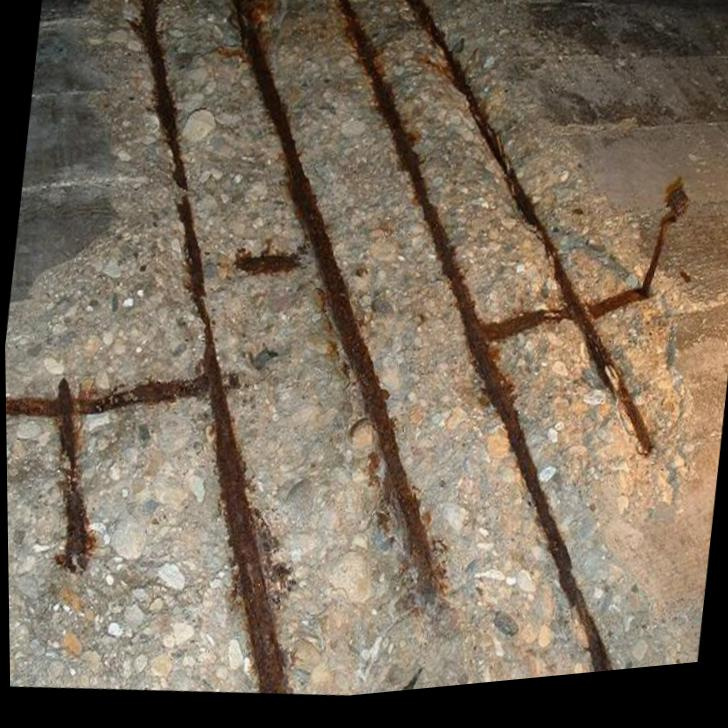damage: (4, 0, 707, 702)
